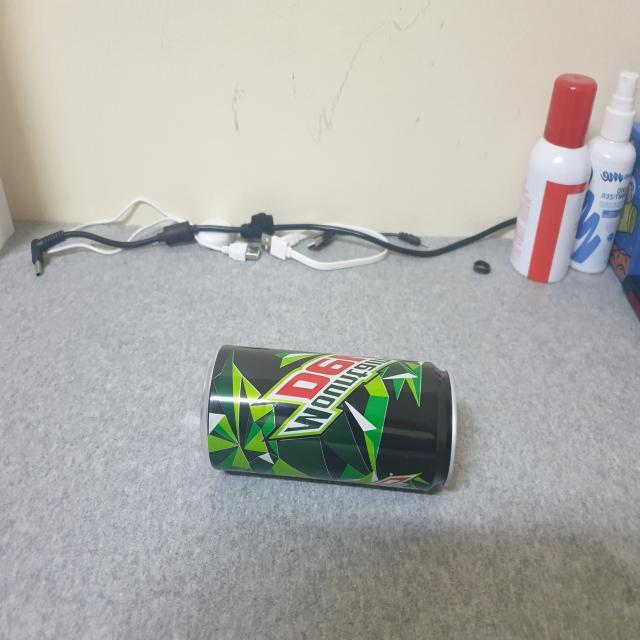can: (199, 343, 456, 494)
